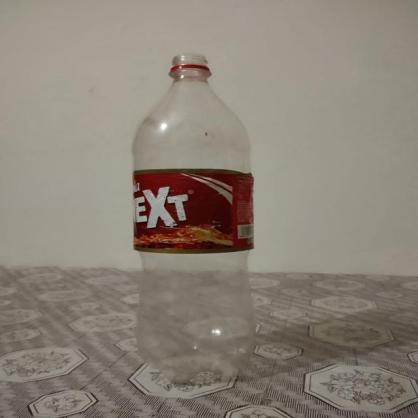bottle: (127, 56, 253, 386)
label: (131, 168, 249, 251)
